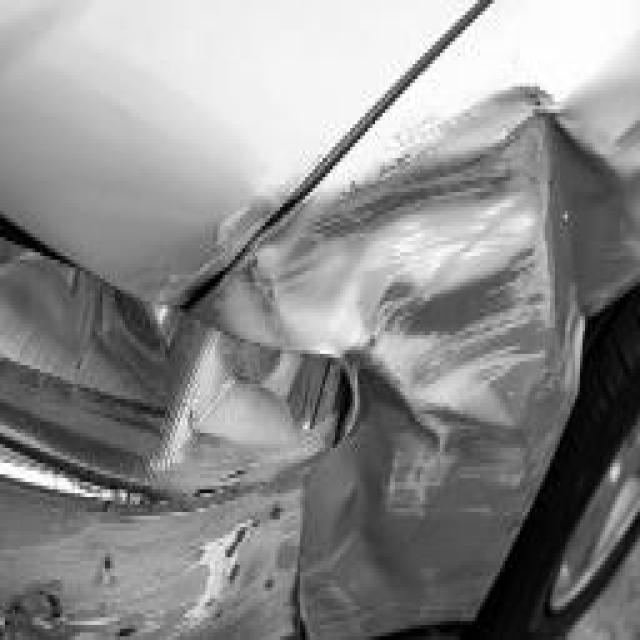Bumper: (5, 478, 295, 640)
Fender: (280, 90, 640, 625)
Light: (15, 309, 340, 486)
